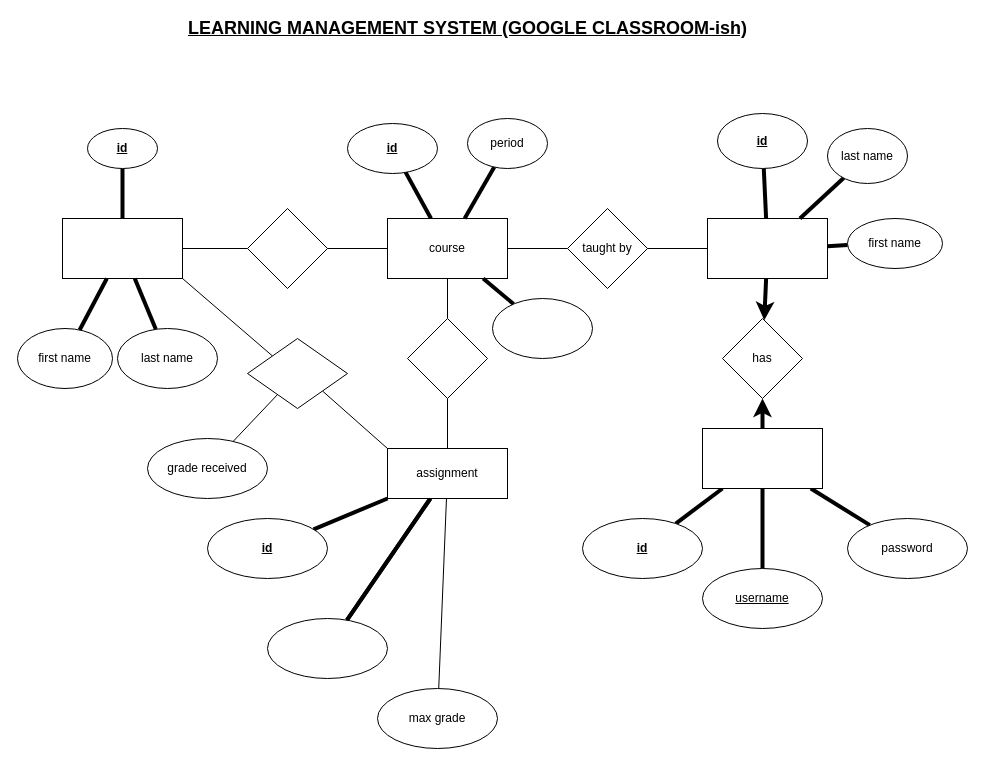
Image size: 985x766. Some labels were removed from this diagram. The centre of each missing label's shape, as x and y in pixels:
completes: (x=297, y=373)
contains: (x=447, y=358)
enrolls in: (x=287, y=248)
student: (x=122, y=248)
subject: (x=542, y=328)
teacher: (x=767, y=248)
title: (x=327, y=648)
user account (teacher's): (x=762, y=458)
